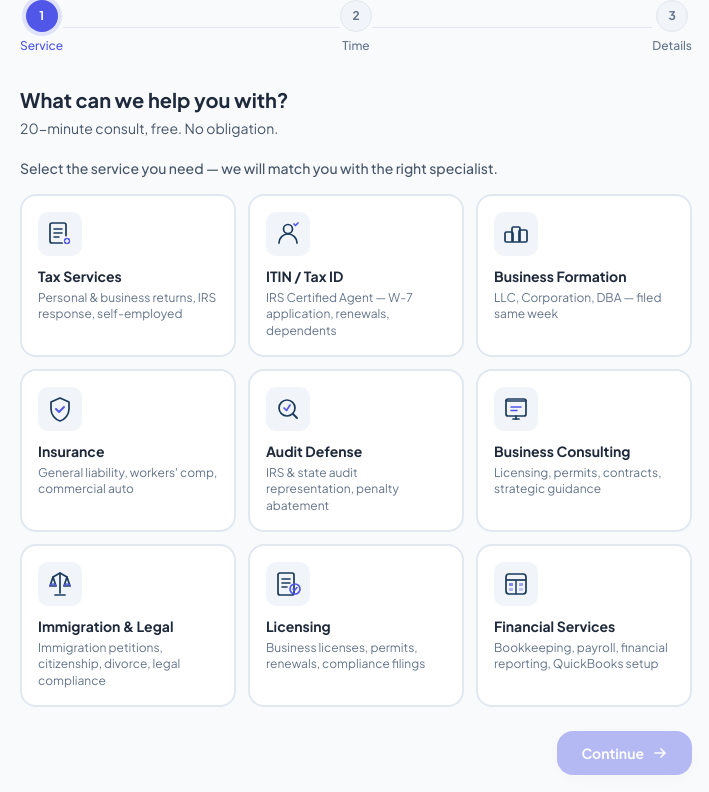
Test: BookingFlow › navigates to step 2 (slot grid) in live mode after selecting service and clicking Continue
The width and height of the screenshot is (709, 792).
What coordinates should you click on to do the following:
click the text "Tax Services"
I would click on:
 (80, 276)
Its box is [38, 267, 122, 285].
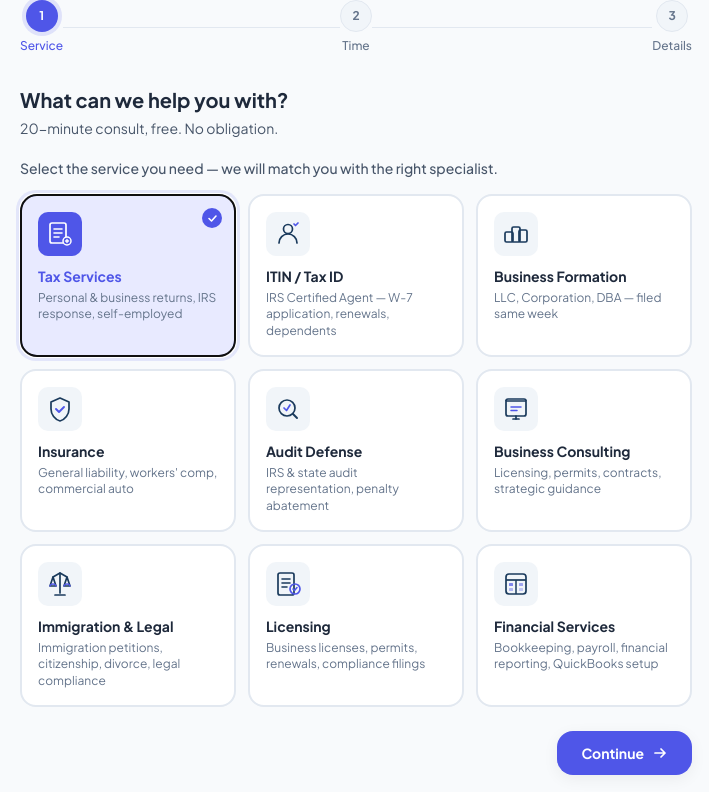
What coordinates should you click on to do the following:
click the button "Continue"
I would click on:
 (625, 753)
Its box is [557, 731, 692, 775].
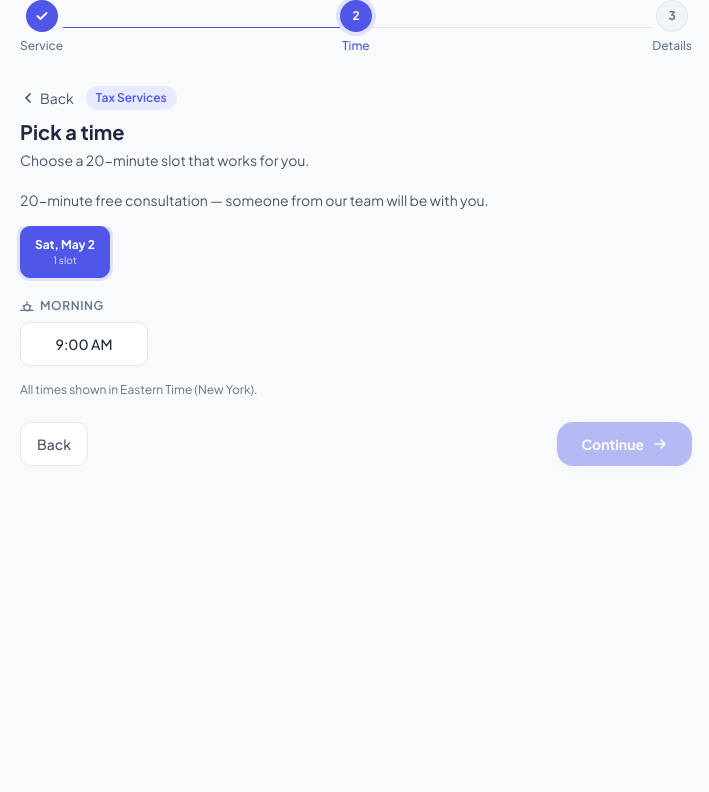
Expected: the heading "Pick a time" is shown, [20, 119, 124, 144]
